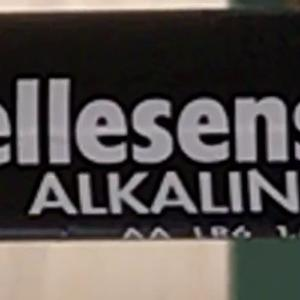keyword: (19, 163, 141, 224)
